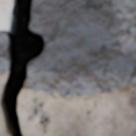broken_brick: (19, 85, 135, 135), (0, 0, 11, 30), (0, 110, 7, 135), (0, 74, 3, 91)
crack: (0, 0, 135, 135)
